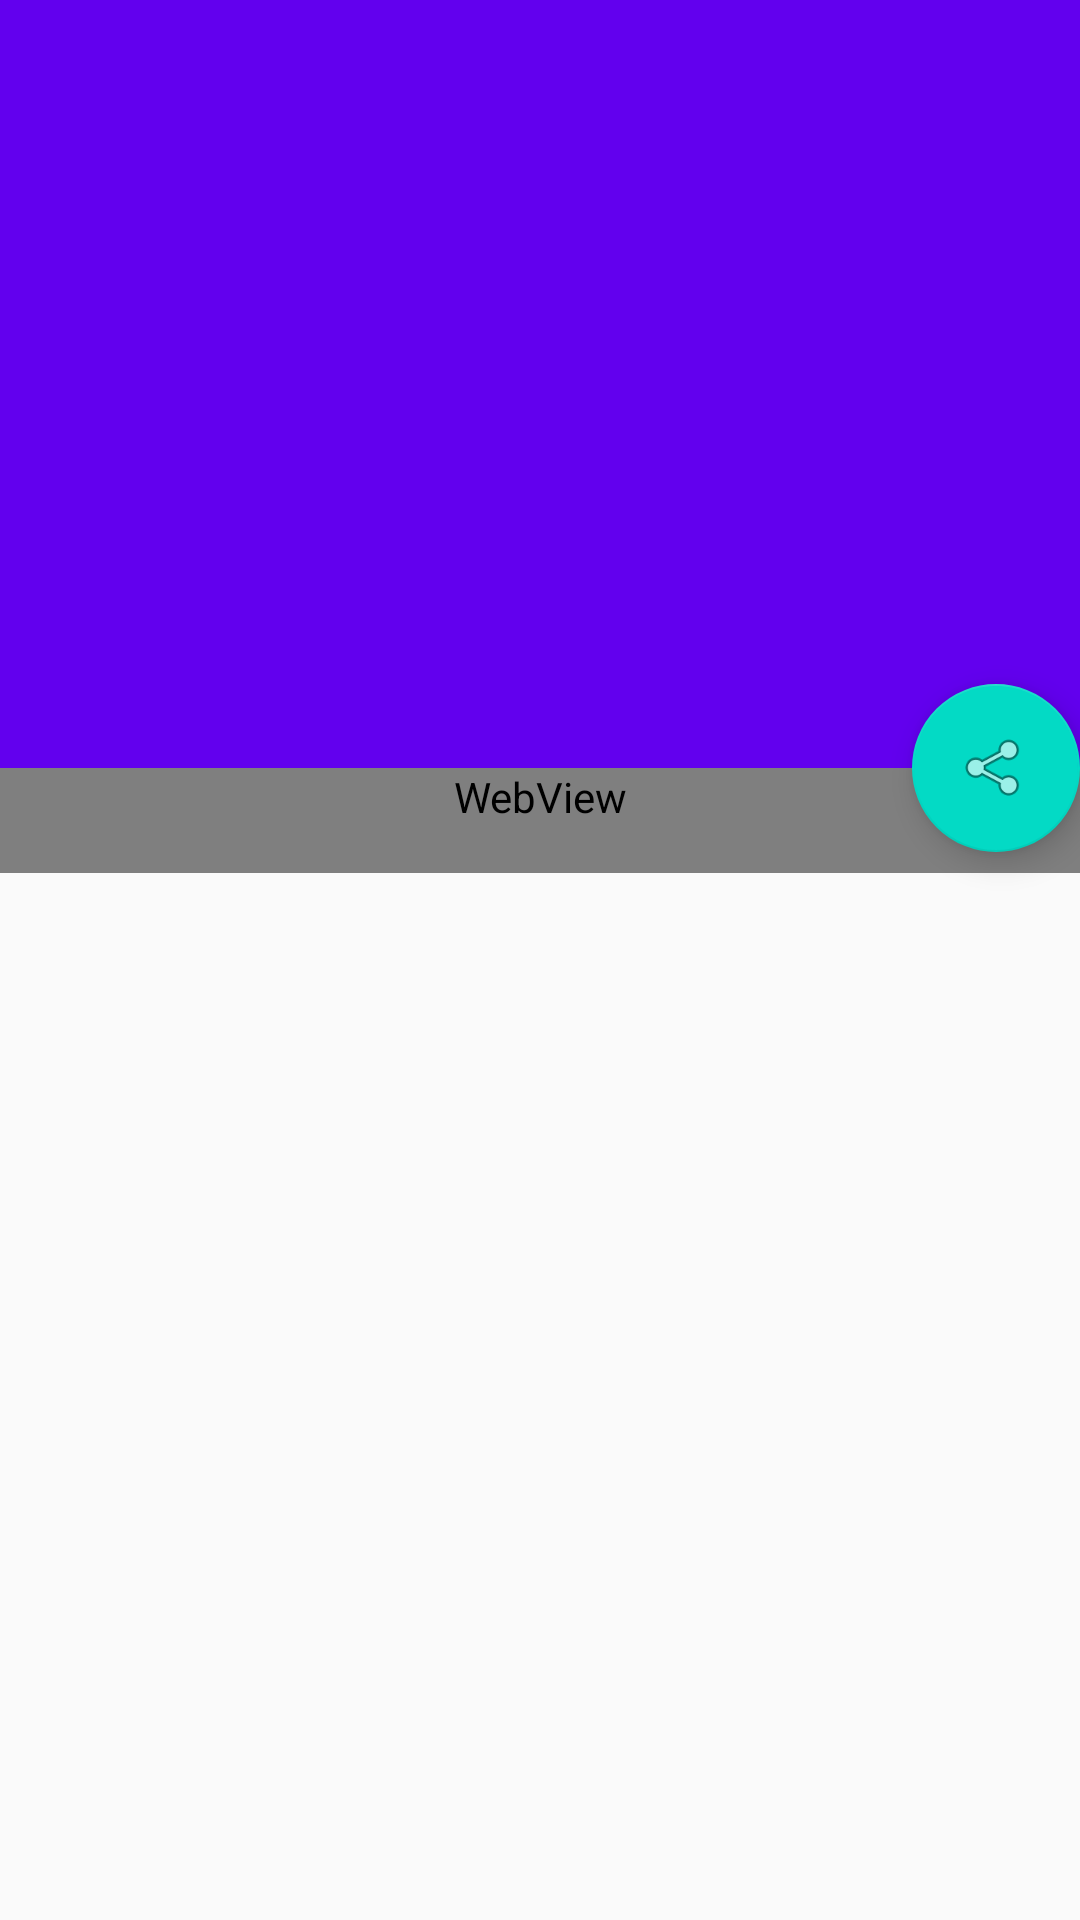

Icon click points for this 1080x1920 phone screenshot, format [x,y]:
share: [996,768]
